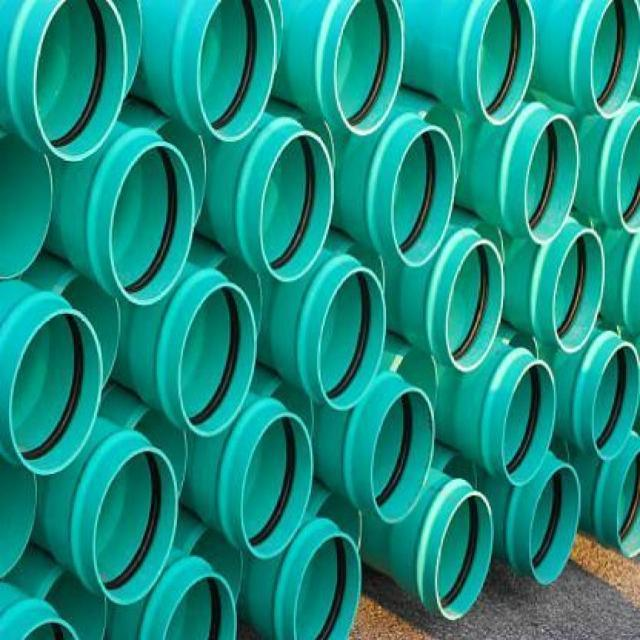pipe: (8, 311, 104, 476), (33, 0, 126, 161), (109, 144, 194, 307), (93, 446, 179, 606), (179, 280, 258, 438), (259, 130, 333, 282), (198, 1, 278, 141), (239, 414, 315, 559), (317, 266, 388, 411), (334, 0, 405, 137), (392, 126, 457, 268), (369, 388, 436, 524), (0, 134, 54, 282), (292, 530, 363, 640), (434, 491, 494, 621), (446, 240, 504, 373), (59, 274, 124, 391), (477, 0, 537, 125), (502, 359, 558, 487), (525, 114, 579, 245), (552, 229, 606, 354), (527, 465, 581, 585), (589, 0, 639, 120), (591, 340, 639, 462), (162, 572, 239, 639), (41, 569, 108, 640), (617, 114, 639, 234)
